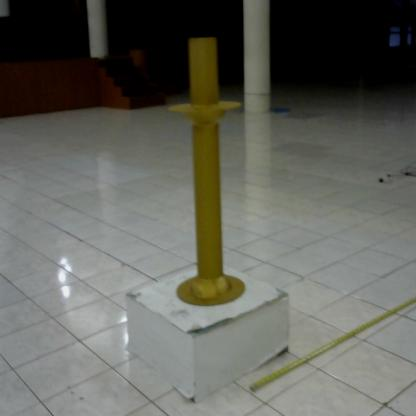pole: (163, 29, 252, 315)
